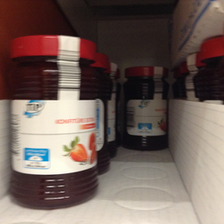jam: (8, 35, 99, 211), (123, 65, 170, 151)
